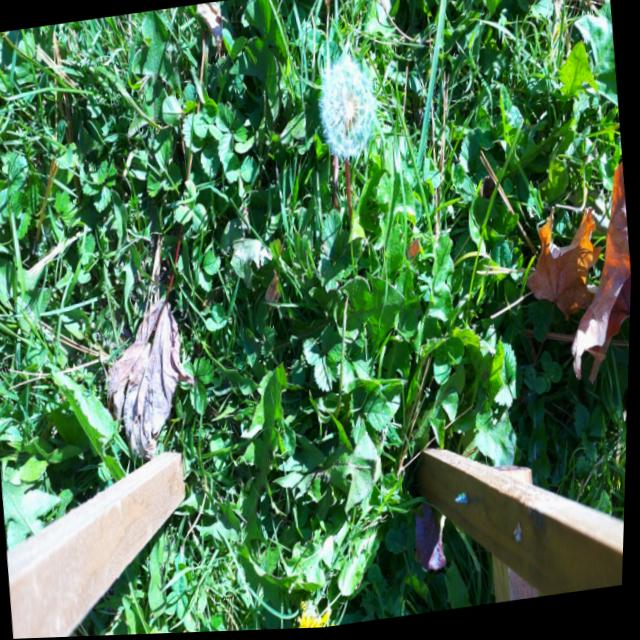base: (326, 189, 348, 224), (341, 200, 361, 228)
